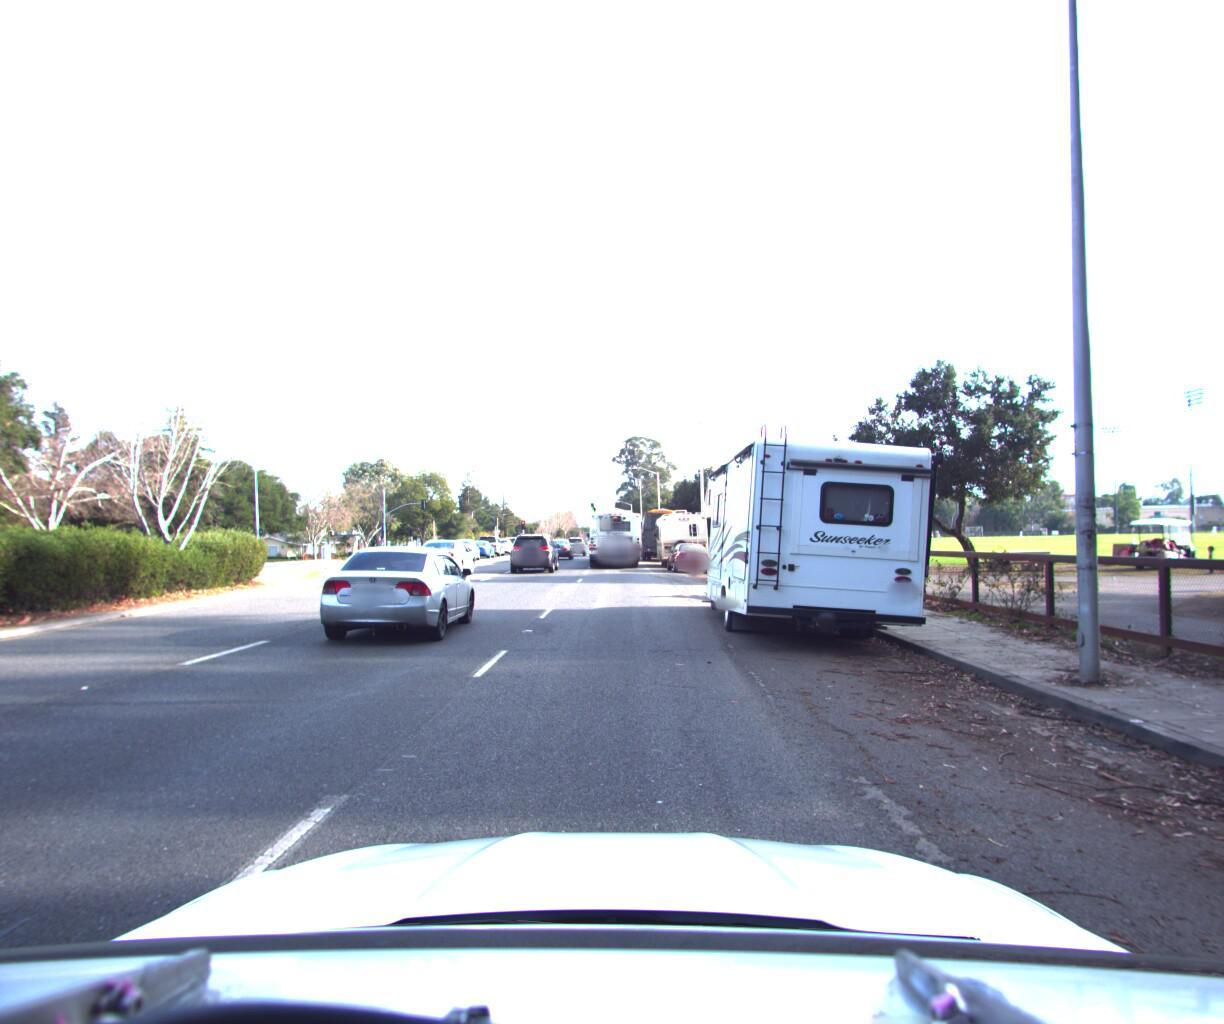bus: (583, 496, 644, 562), (639, 502, 690, 556)
car: (307, 532, 486, 639), (416, 534, 479, 573), (509, 526, 559, 568), (666, 534, 713, 570), (451, 532, 484, 557), (475, 528, 507, 551), (466, 533, 498, 553), (548, 536, 576, 557), (574, 534, 597, 551)
other_vehicle: (692, 419, 951, 658), (655, 501, 710, 563)
